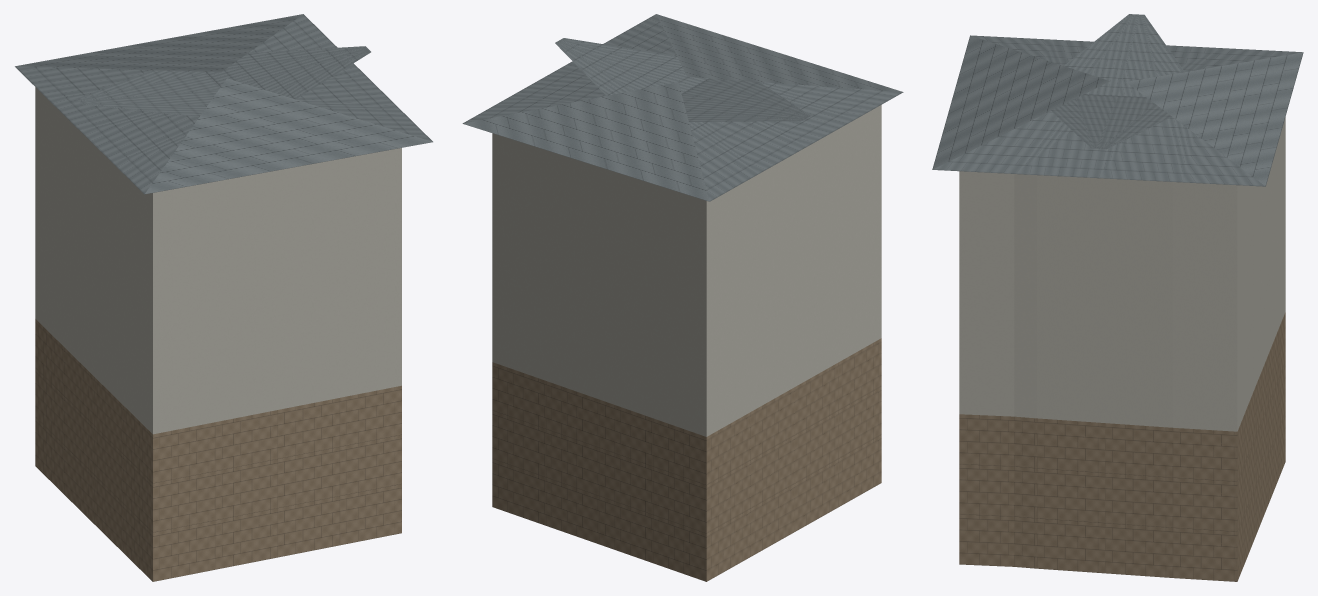
Rendered from bld_c-14_27_485.gltf.
The picture shows the model from 3 angles, left to right: view 1: azimuth 30°, elevation 25°; view 2: azimuth 150°, elevation 25°; view 3: azimuth 270°, elevation 25°; orthographic projection. The views are drawn at different scales.
Visible parts, largest first — view 1: bld_c-14_27_485; view 2: bld_c-14_27_485; view 3: bld_c-14_27_485.
Boxes of the visible parts, x1,y1,x2,y2 form: bld_c-14_27_485: (15,14,432,581); bld_c-14_27_485: (462,14,903,581); bld_c-14_27_485: (932,14,1303,581).
Bounding box in the file's own units: 11 × 14.7 × 11.42.
3 materials, 3 textured.
